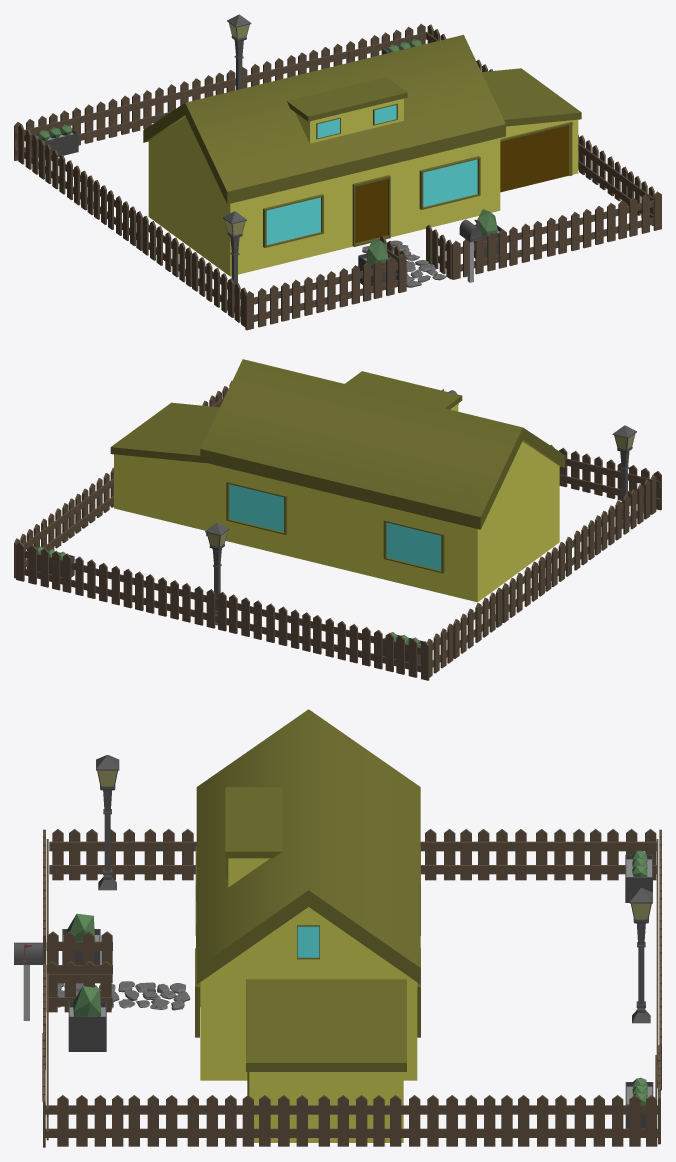
3 renders of one model, top to bottom at view 1: azimuth 30°, elevation 25°; view 2: azimuth 150°, elevation 25°; view 3: azimuth 270°, elevation 25°, orthographic. The views are drawn at different scales.
Parts seen in each view (by area): view 1: cit1_pCube25; view 2: cit1_pCube25; view 3: cit1_pCube25.
Boxes of the visible parts, x1=… form: cit1_pCube25: x1=14, y1=14, x2=661, y2=330; cit1_pCube25: x1=14, y1=359, x2=661, y2=680; cit1_pCube25: x1=14, y1=709, x2=661, y2=1147.
Size of the model in its own units: 25.2 by 8.44 by 25.55.
